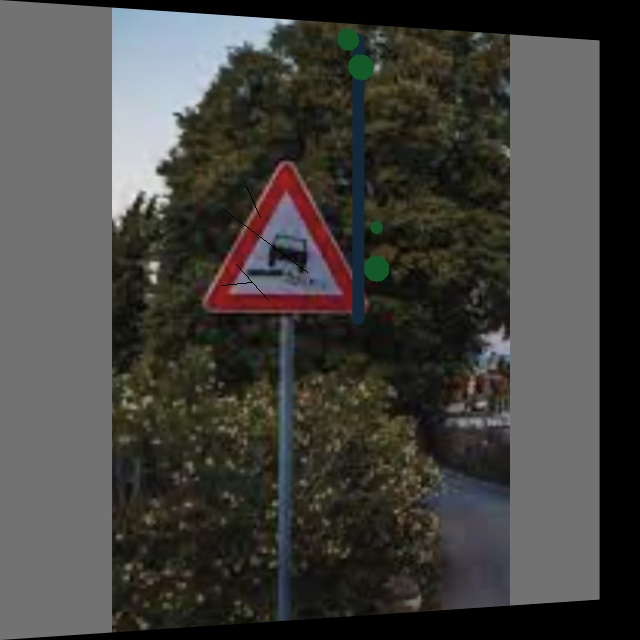Loose_Gravel: (215, 163, 362, 313)
